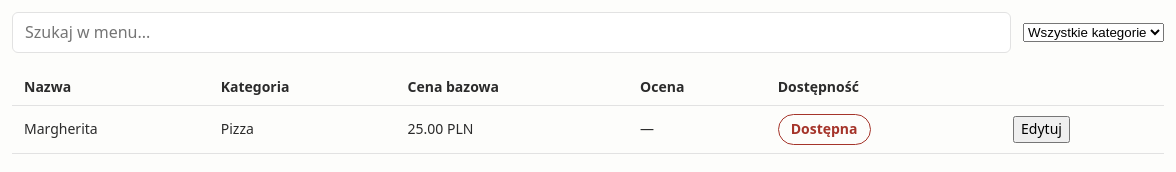
MenuItemList › shows an empty-state message when the filter matches nothing
Type "nonexistent" into the search field labelled "Szukaj w menu" at (512, 33), box 12,12 -> 1011,53
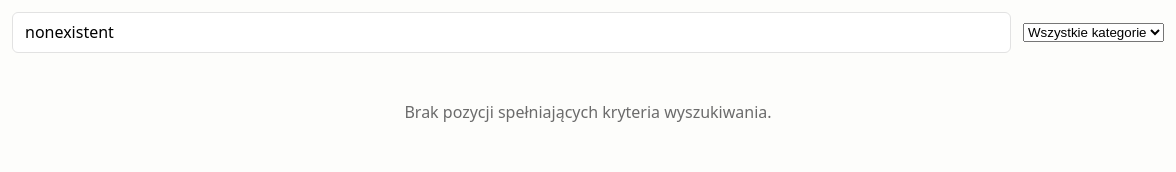
Now the text "Brak pozycji spełniających kryteria wyszukiwania." is shown, box 404,101 -> 772,123
